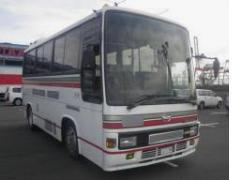bus: (21, 3, 203, 172)
